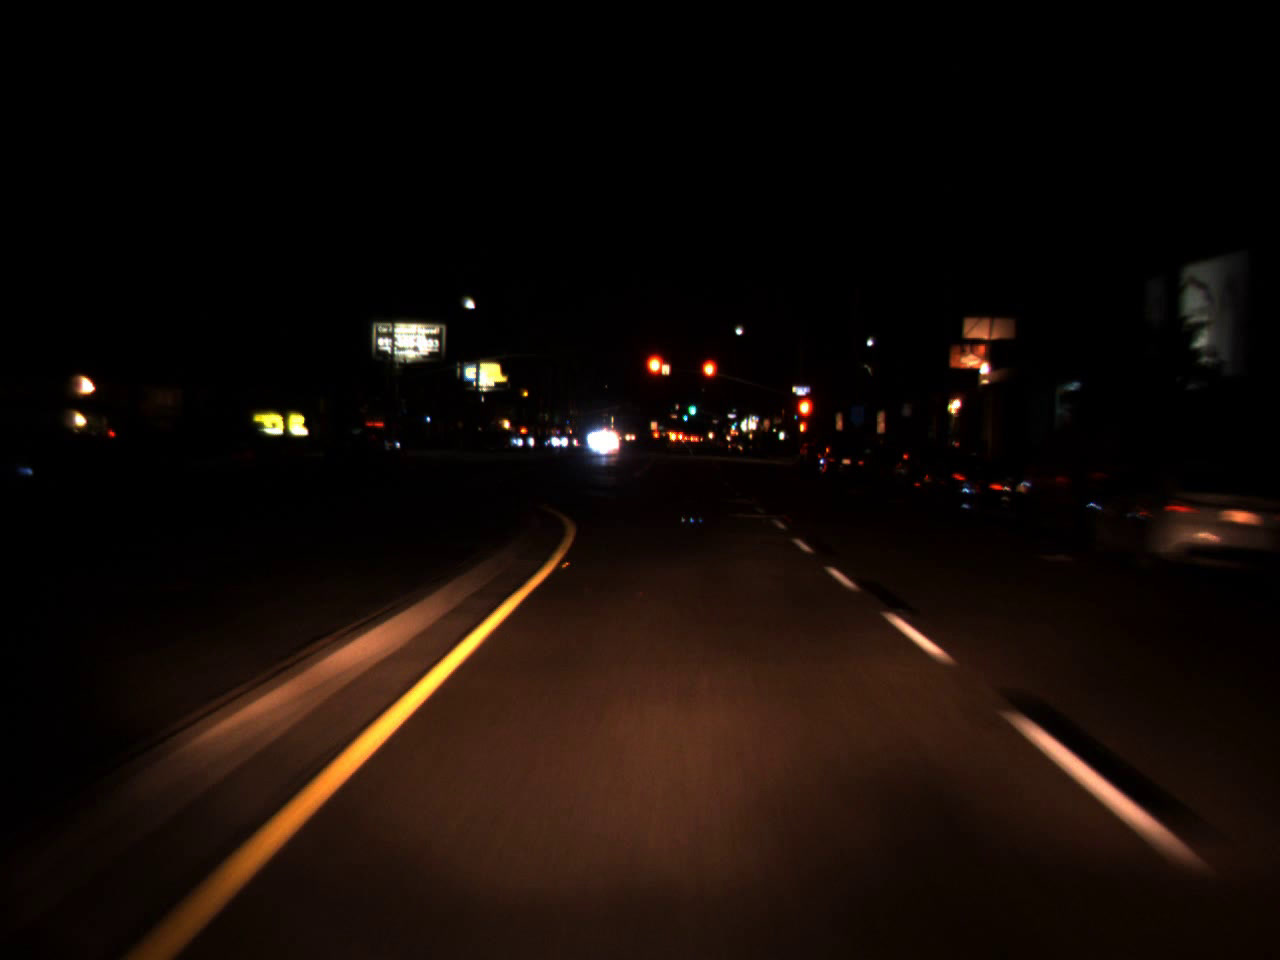go: (687, 397, 697, 418), (681, 410, 688, 422)
stop: (644, 351, 668, 399), (794, 396, 815, 439), (702, 359, 717, 388)
